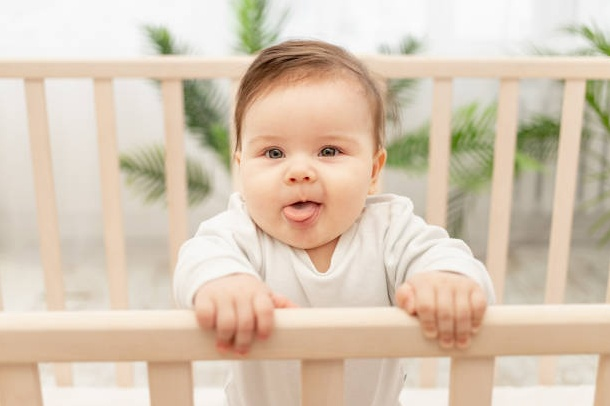baby: (174, 41, 493, 352)
crib: (248, 56, 609, 405)
